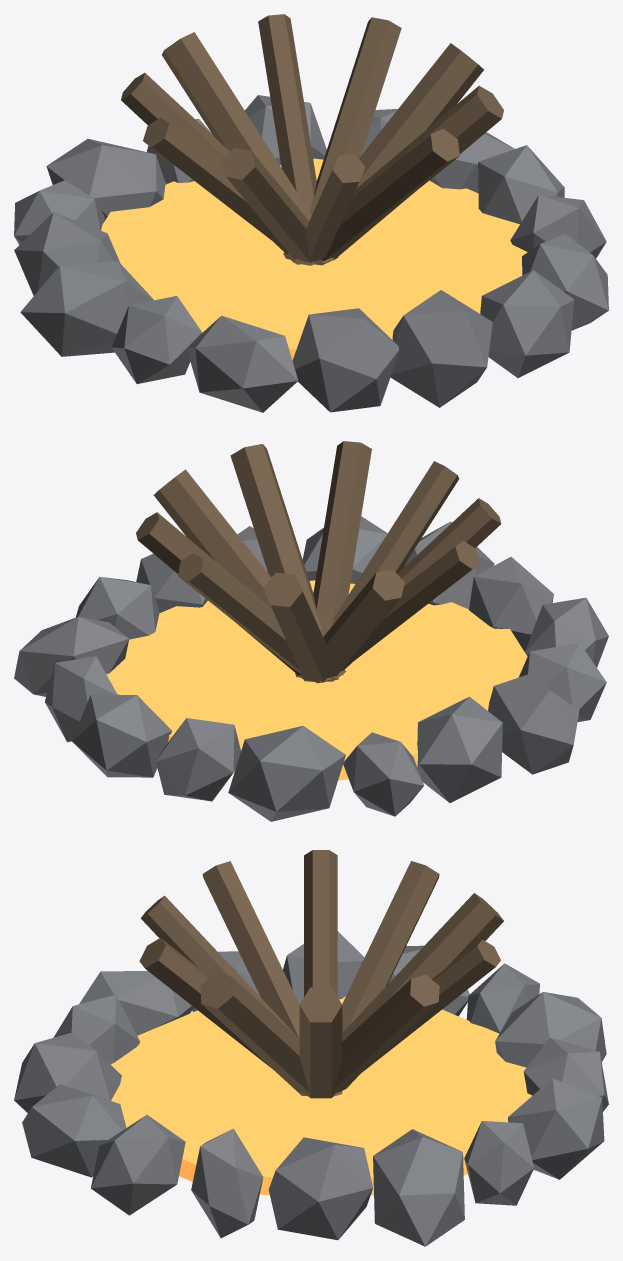
The model's file is bonfire.glb.
3 renders of one model, top to bottom at view 1: azimuth 30°, elevation 25°; view 2: azimuth 150°, elevation 25°; view 3: azimuth 270°, elevation 25°, orthographic. The views are drawn at different scales.
Visible parts, largest first — view 1: CoalBed, Stone11, Stone12, Stone8, Stone10, Stone13, Log3, Log2, Stone5, Log0, Stone9, Log1 (+15 smaller); view 2: CoalBed, Stone5, Stone7, Stone8, Log8, Stone3, Log9, Log0, Stone4, Stone1, Stone6, Stone11 (+14 smaller); view 3: CoalBed, Stone1, Stone0, Stone13, Stone14, Stone3, Log6, Log4, Stone15, Log9, Stone5, Stone12 (+15 smaller).
Part boxes in pixels (x1=…): CoalBed: x1=101, y1=158, x2=527, y2=360; Stone11: x1=292, y1=308, x2=398, y2=412; Stone12: x1=390, y1=290, x2=492, y2=407; Stone8: x1=20, y1=261, x2=153, y2=356; Stone10: x1=188, y1=315, x2=298, y2=412; Stone13: x1=480, y1=270, x2=574, y2=377; Log3: x1=162, y1=32, x2=338, y2=265; Log2: x1=258, y1=14, x2=316, y2=264; Stone5: x1=46, y1=139, x2=165, y2=220; Log0: x1=283, y1=43, x2=483, y2=264; Stone9: x1=111, y1=296, x2=202, y2=383; Log1: x1=293, y1=17, x2=401, y2=265; CoalBed: x1=106, y1=580, x2=527, y2=780; Stone5: x1=228, y1=726, x2=345, y2=821; Stone7: x1=417, y1=696, x2=502, y2=802; Stone8: x1=488, y1=674, x2=579, y2=774; Log8: x1=305, y1=441, x2=371, y2=682; Stone3: x1=72, y1=694, x2=171, y2=777; Log9: x1=230, y1=444, x2=338, y2=683; Log0: x1=153, y1=469, x2=345, y2=681; Stone4: x1=156, y1=718, x2=240, y2=801; Stone1: x1=14, y1=616, x2=128, y2=696; Stone6: x1=343, y1=732, x2=424, y2=816; Stone11: x1=469, y1=556, x2=553, y2=651; CoalBed: x1=111, y1=996, x2=532, y2=1195; Stone1: x1=373, y1=1129, x2=464, y2=1246; Stone0: x1=268, y1=1137, x2=373, y2=1240; Stone13: x1=22, y1=1084, x2=126, y2=1177; Stone14: x1=91, y1=1115, x2=185, y2=1215; Stone3: x1=508, y1=1078, x2=604, y2=1179; Log6: x1=202, y1=861, x2=342, y2=1098; Log4: x1=305, y1=861, x2=439, y2=1098; Stone15: x1=191, y1=1128, x2=263, y2=1238; Log9: x1=200, y1=972, x2=316, y2=1098; Stone5: x1=495, y1=992, x2=606, y2=1067; Stone12: x1=14, y1=1032, x2=121, y2=1113.
Bounding box in the file's own units: 6.05 × 2.37 × 5.83.
